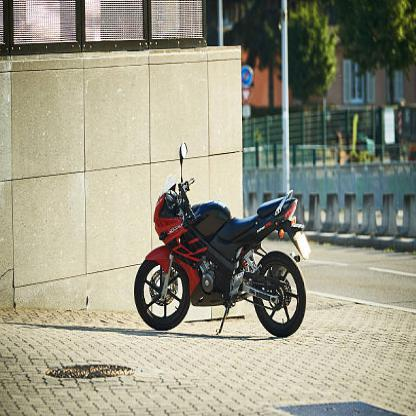Motorcycle: (127, 136, 320, 358)
